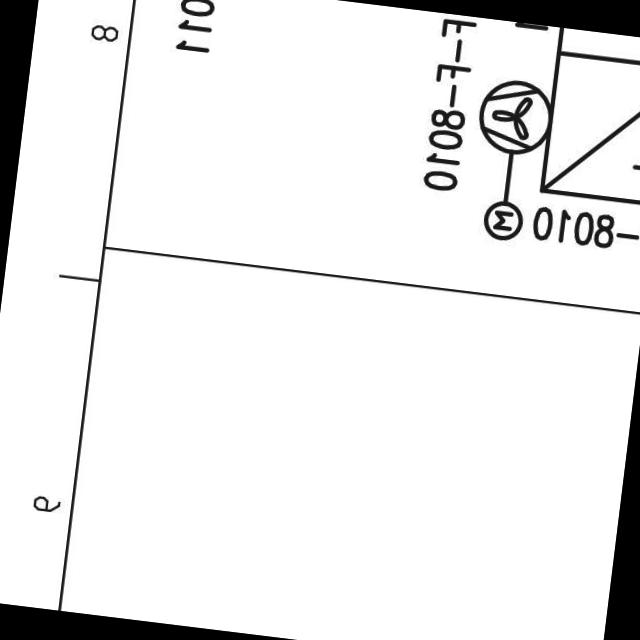F: (468, 68, 554, 160)
M: (479, 196, 525, 244)
